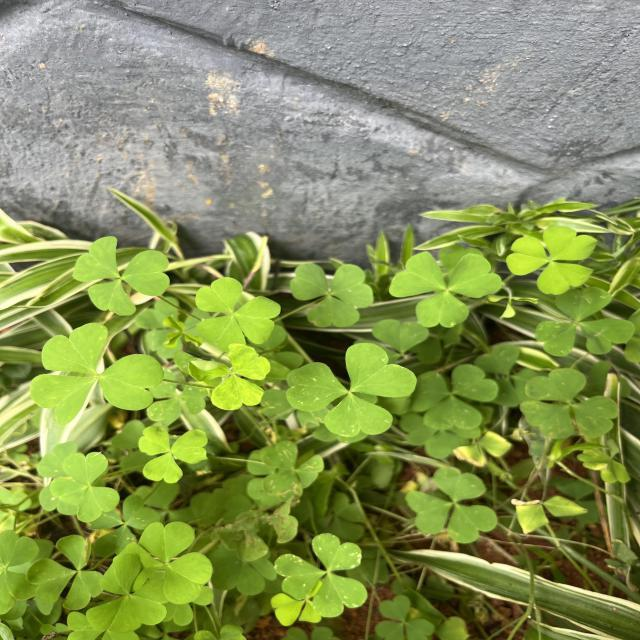Oxalis corniculata: (29, 322, 164, 425), (284, 341, 418, 439), (388, 250, 502, 328), (116, 520, 214, 606), (272, 532, 368, 618), (72, 235, 170, 318), (519, 366, 619, 441), (404, 466, 498, 544), (534, 287, 636, 358), (195, 276, 282, 354), (504, 224, 598, 296), (24, 534, 106, 610), (411, 362, 499, 430), (186, 343, 272, 411), (290, 262, 374, 328), (50, 451, 120, 524), (138, 426, 208, 484), (261, 440, 326, 502)
